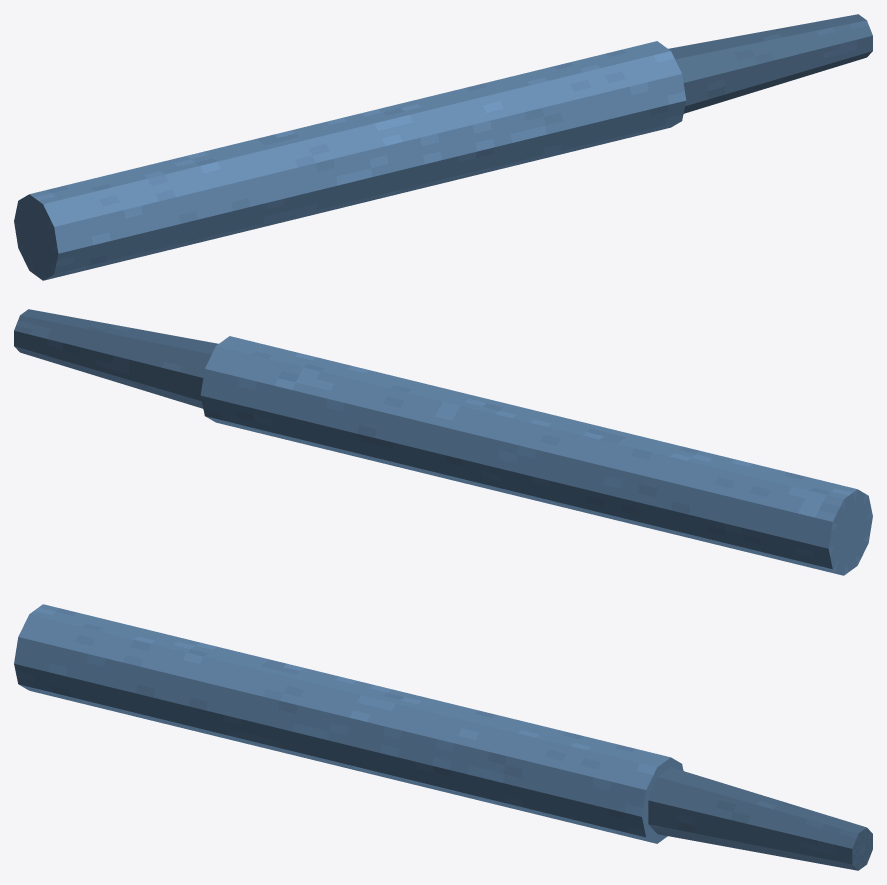
Rendered from glowstick.glb.
3 views of the same model, one above another, from view 1: azimuth 30°, elevation 25°; view 2: azimuth 150°, elevation 25°; view 3: azimuth 330°, elevation 25° (orthographic).
Visible parts, largest first — view 1: block_main barrel, block_cap or tip; view 2: block_main barrel, block_cap or tip; view 3: block_main barrel, block_cap or tip.
Boxes of the visible parts, bbox=[...] form: block_main barrel: bbox=[14, 41, 686, 280]; block_cap or tip: bbox=[668, 14, 872, 113]; block_main barrel: bbox=[200, 336, 872, 575]; block_cap or tip: bbox=[14, 309, 218, 408]; block_main barrel: bbox=[14, 604, 683, 843]; block_cap or tip: bbox=[648, 767, 872, 870].
Bounding box in the file's own units: 0.1461 × 0.0129 × 0.0136.
1 material, 1 textured.
